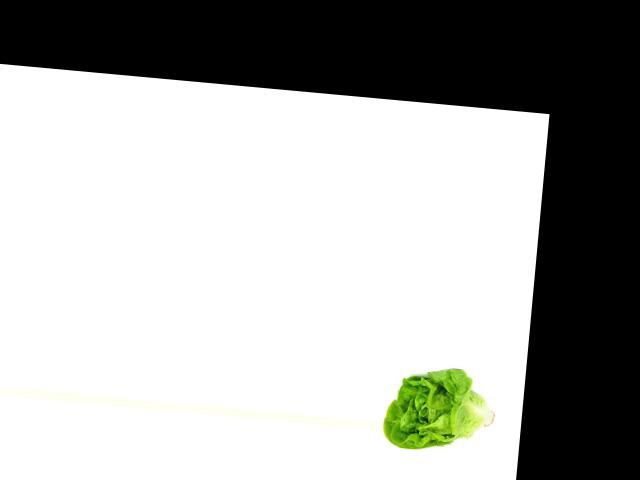lettuce: (381, 356, 502, 459)
